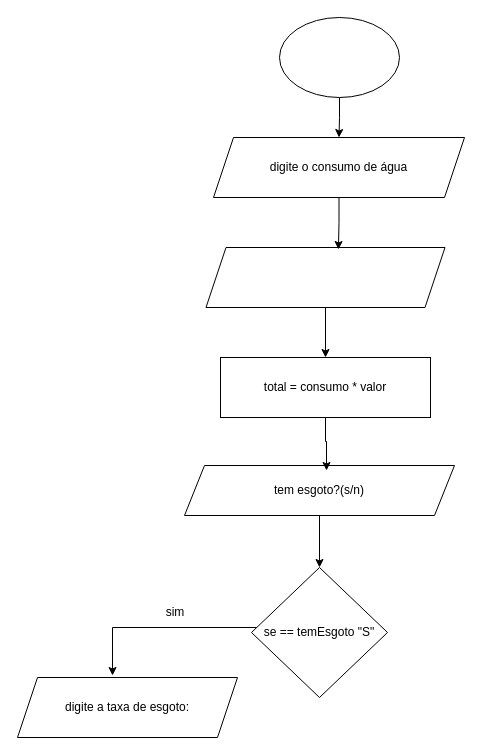
The diagram is 482 pixels wide and 755 high, and some of its shapes have lost their labels. Each missing label, with the centre of its shape:
inicio: point 339,57
qual valor da água consumida?: point 325,277
